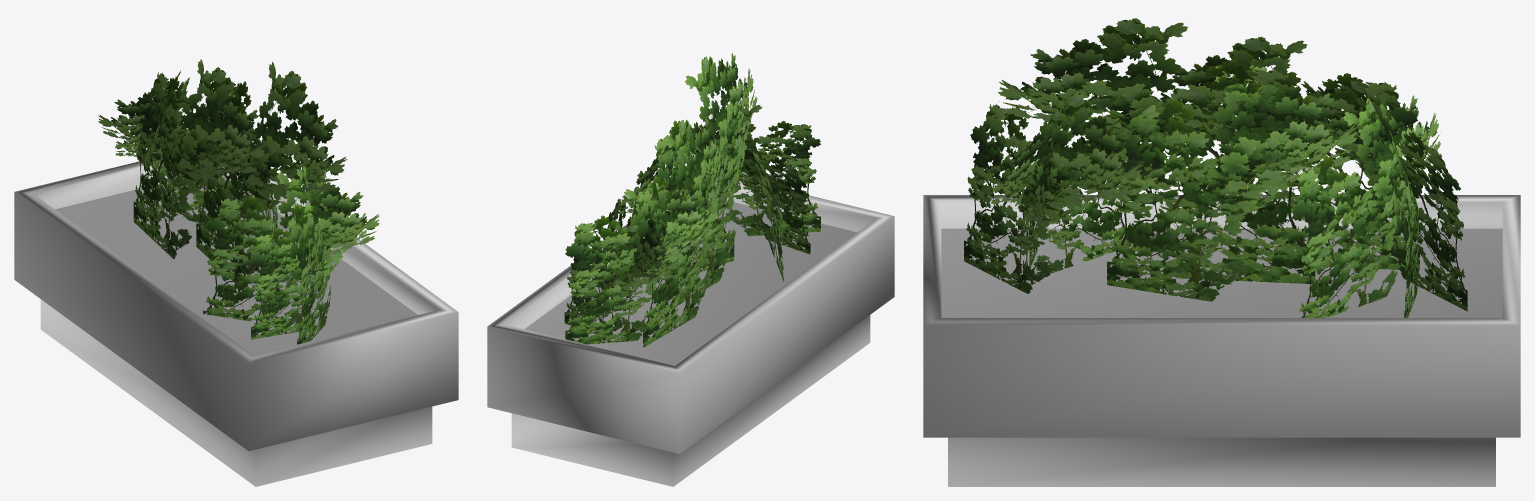
Rendered from foliagebox.fbx.
The picture shows the model from 3 angles, left to right: view 1: azimuth 30°, elevation 25°; view 2: azimuth 150°, elevation 25°; view 3: azimuth 270°, elevation 25°; orthographic projection. The views are drawn at different scales.
Visible parts, largest first — view 1: Mesh; view 2: Mesh; view 3: Mesh.
Part boxes in pixels (box(x1,y1,x2,y2)): Mesh: box(14, 59, 458, 486); Mesh: box(487, 53, 894, 486); Mesh: box(923, 18, 1520, 486).
Size of the model in its own units: 94.07 by 145 by 182.
